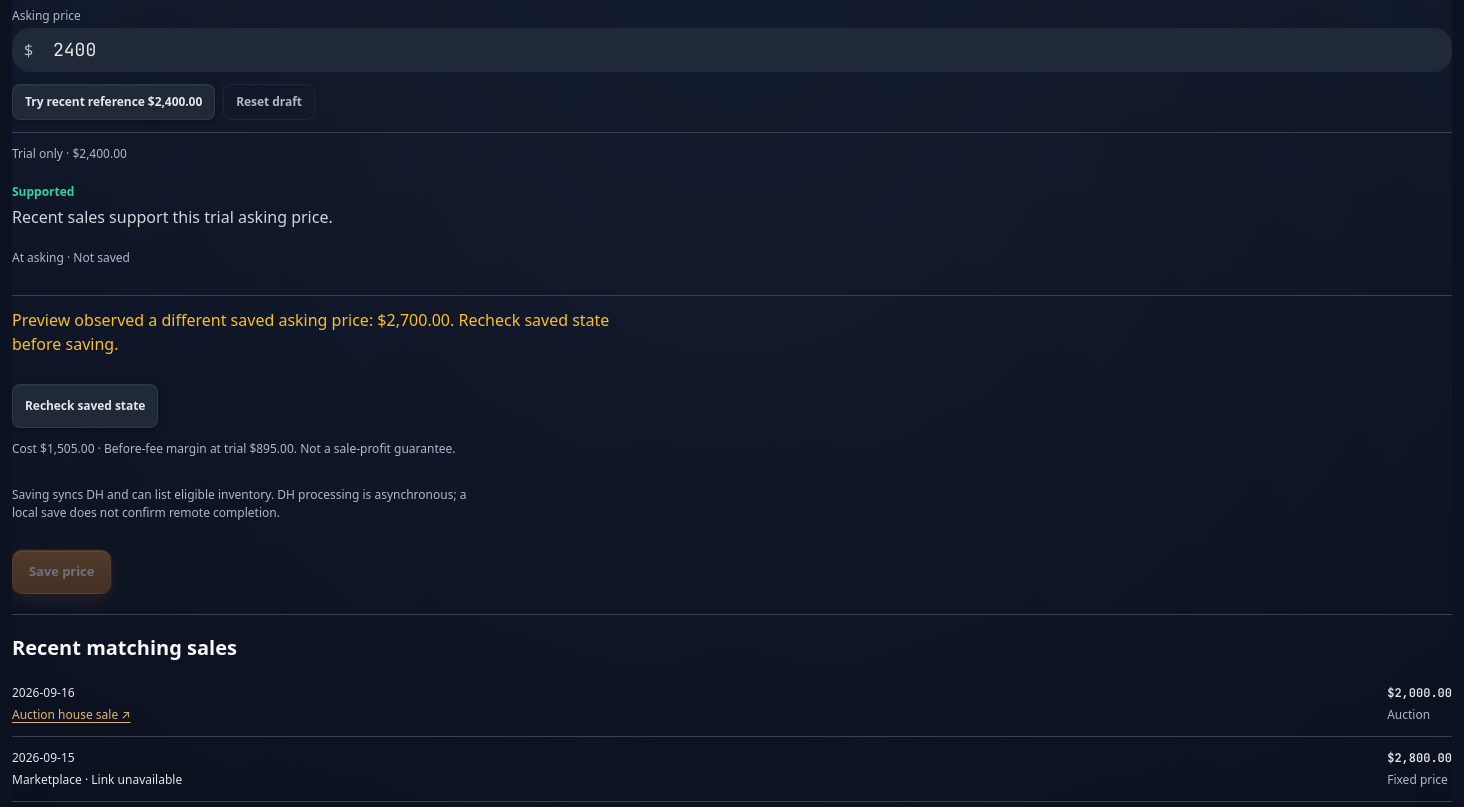
Test: requires rechecking when the preview observes a different saved price, without publishing it as saved
(page scrolled)
expect the text "Preview observed a different saved asking price" is shown: met, box [12,309,377,331]
expect the button "Save price" is disabled: met, box [12,550,111,594]
Click the button "Recheck saved state" at (85, 406), box [12,384,158,428]
(page scrolled)
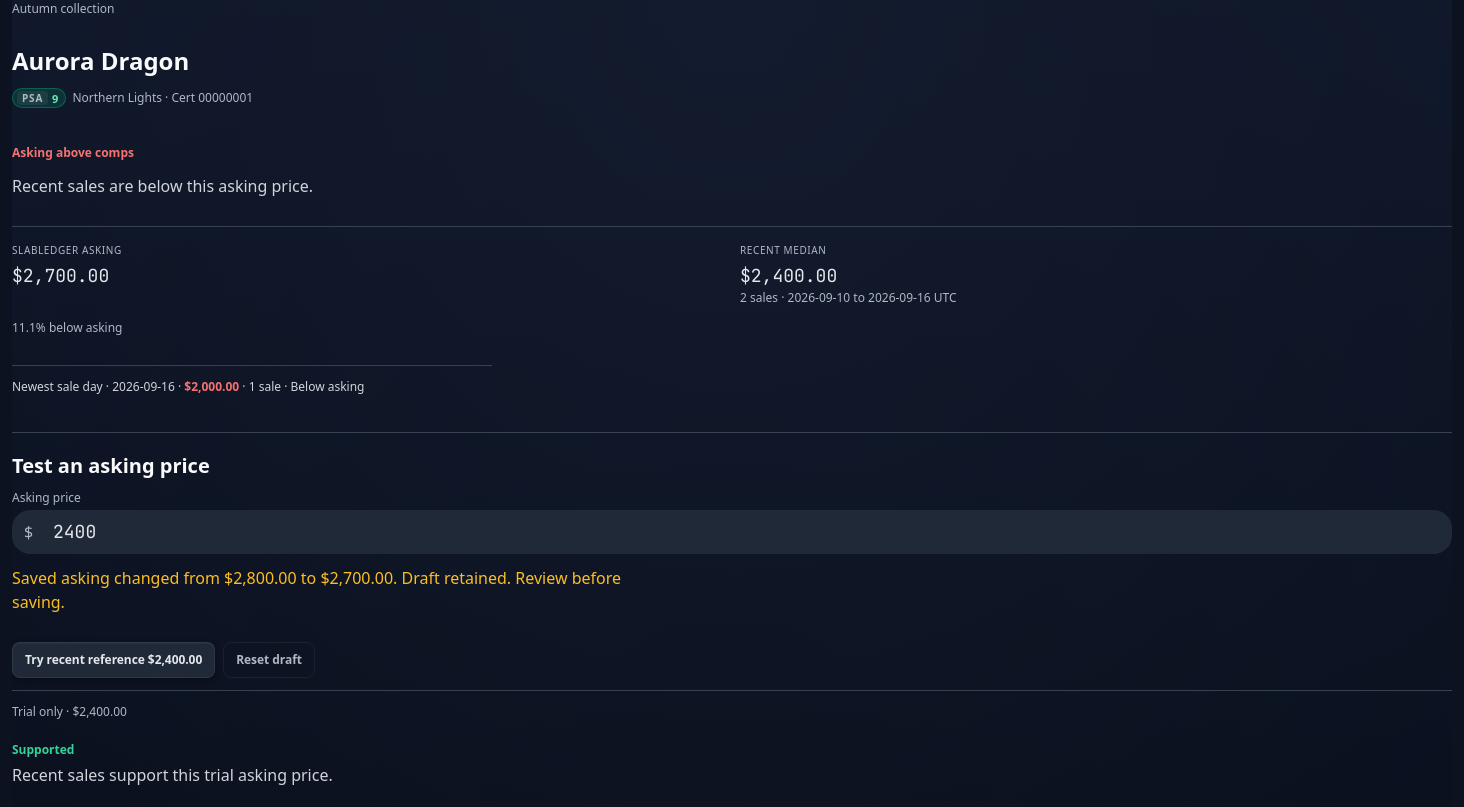
expect the text named "Saved asking price" reads "$2,700.00": met, box [12,264,109,287]
